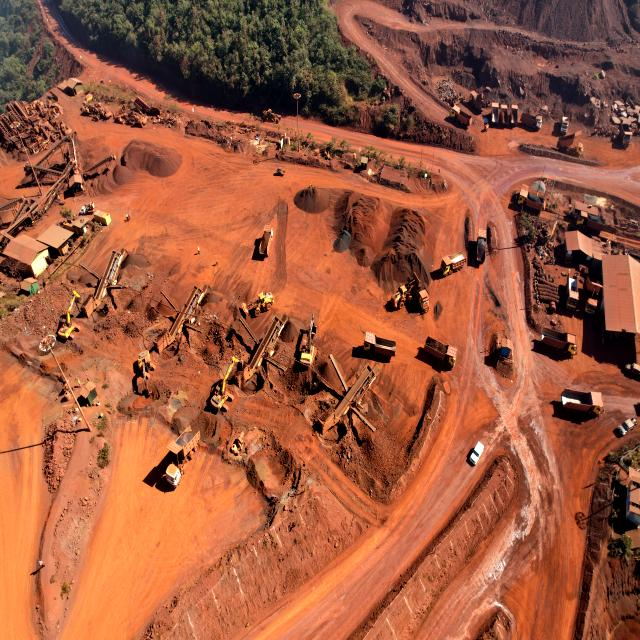Dumper truck: (559, 389, 603, 420), (538, 330, 578, 358), (422, 338, 458, 368), (171, 429, 204, 459), (362, 333, 397, 360), (485, 333, 511, 363), (163, 456, 183, 488), (442, 252, 467, 276), (567, 274, 580, 310), (474, 228, 488, 260), (586, 274, 598, 310), (464, 211, 474, 254), (259, 226, 274, 254), (452, 107, 472, 127), (520, 112, 542, 130), (512, 187, 528, 207), (471, 88, 484, 112), (501, 105, 517, 124), (417, 290, 429, 311), (620, 123, 631, 144), (560, 112, 570, 133), (490, 102, 499, 122)
Excavator: (298, 314, 318, 372), (208, 381, 232, 412), (68, 292, 85, 316), (57, 322, 78, 341), (141, 362, 152, 397), (138, 352, 154, 374), (220, 365, 230, 396), (215, 257, 218, 266)
car: (468, 441, 485, 466), (627, 361, 640, 380), (620, 418, 633, 435)
person: (197, 246, 200, 255)
